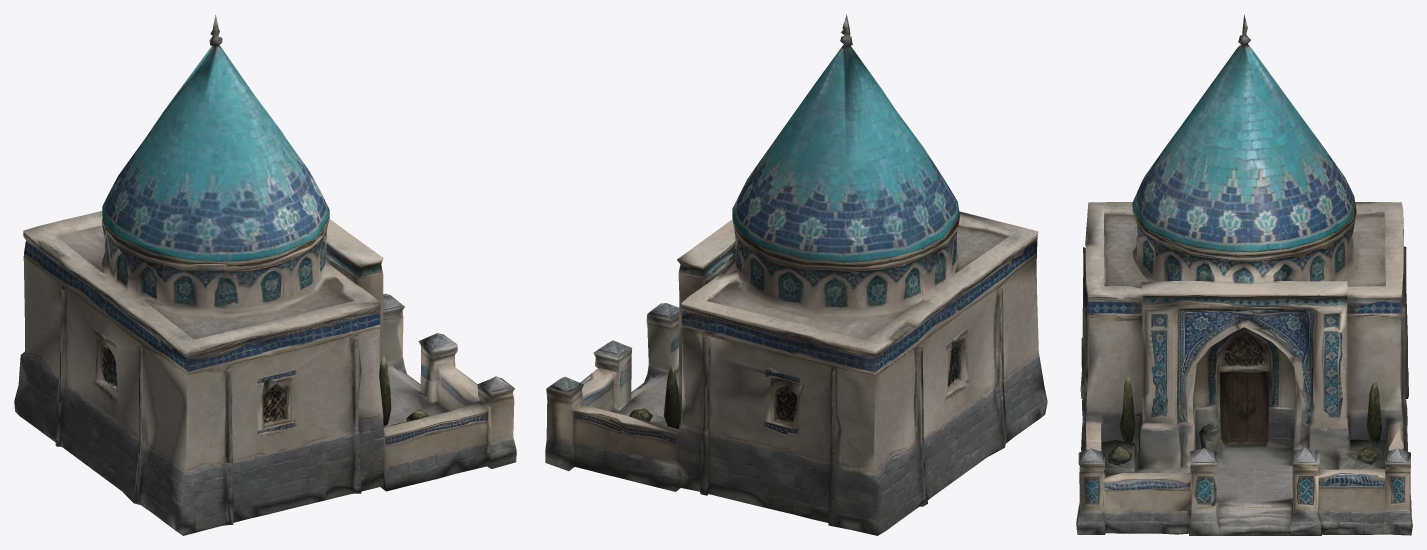
File: shrine_0.glb
The picture shows the model from 3 angles, left to right: view 1: azimuth 30°, elevation 25°; view 2: azimuth 150°, elevation 25°; view 3: azimuth 270°, elevation 25°; orthographic projection. The views are drawn at different scales.
Visible parts, largest first — view 1: tripo_node_4ac4a79f-f51a-41d4-a656-2c121b918e52; view 2: tripo_node_4ac4a79f-f51a-41d4-a656-2c121b918e52; view 3: tripo_node_4ac4a79f-f51a-41d4-a656-2c121b918e52.
Part boxes in pixels (x1,y1,x2,y2): tripo_node_4ac4a79f-f51a-41d4-a656-2c121b918e52: (14, 15, 516, 535); tripo_node_4ac4a79f-f51a-41d4-a656-2c121b918e52: (545, 14, 1047, 535); tripo_node_4ac4a79f-f51a-41d4-a656-2c121b918e52: (1076, 14, 1412, 535).
Size of the model in its own units: 0.7897 by 0.9835 by 0.71.
1 material, 1 textured.
